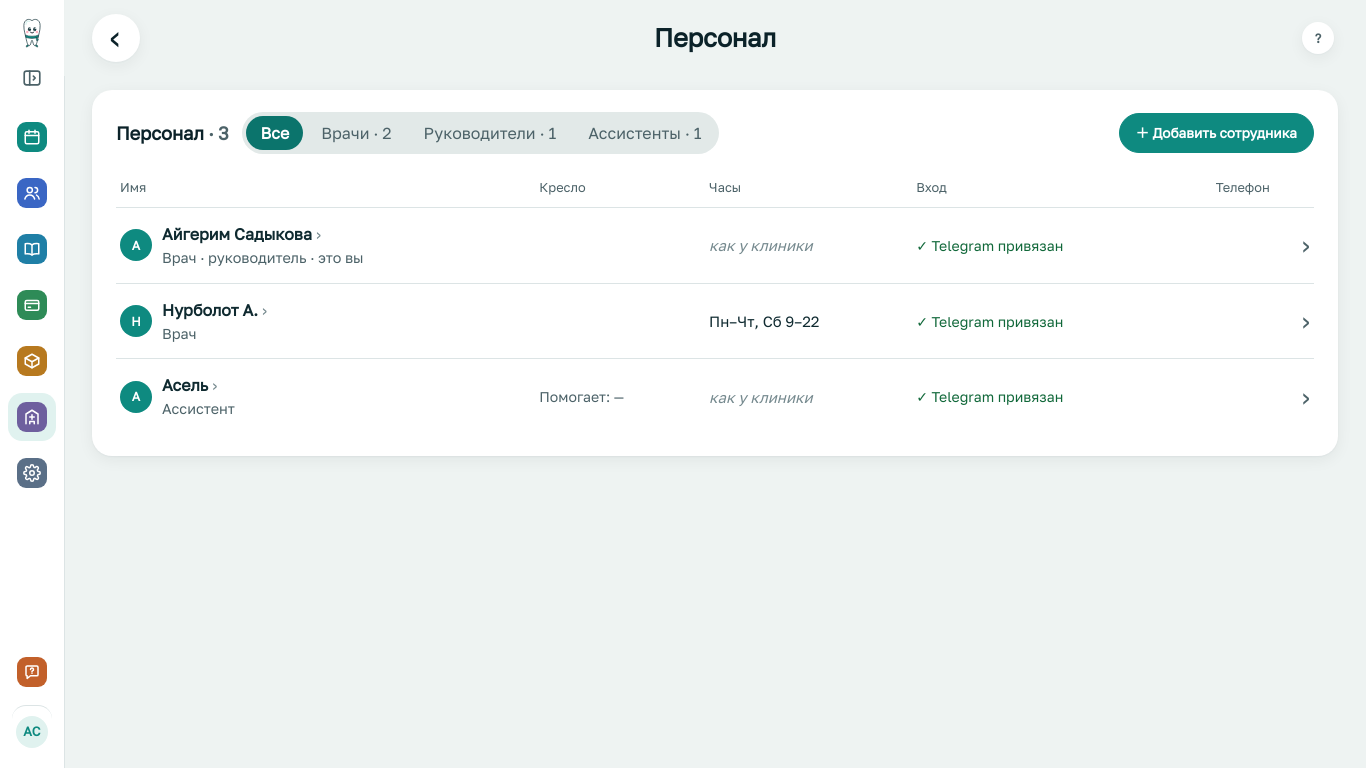
Test: «Услуги врача» → «Только выбранные»: галочка и название — одной строкой-подписью, группа — подзаголовком
Later steps or results of the test are not shown.
Click the button "Нурболот А.": [215, 310] box [162,298,267,322]
(page scrolled)
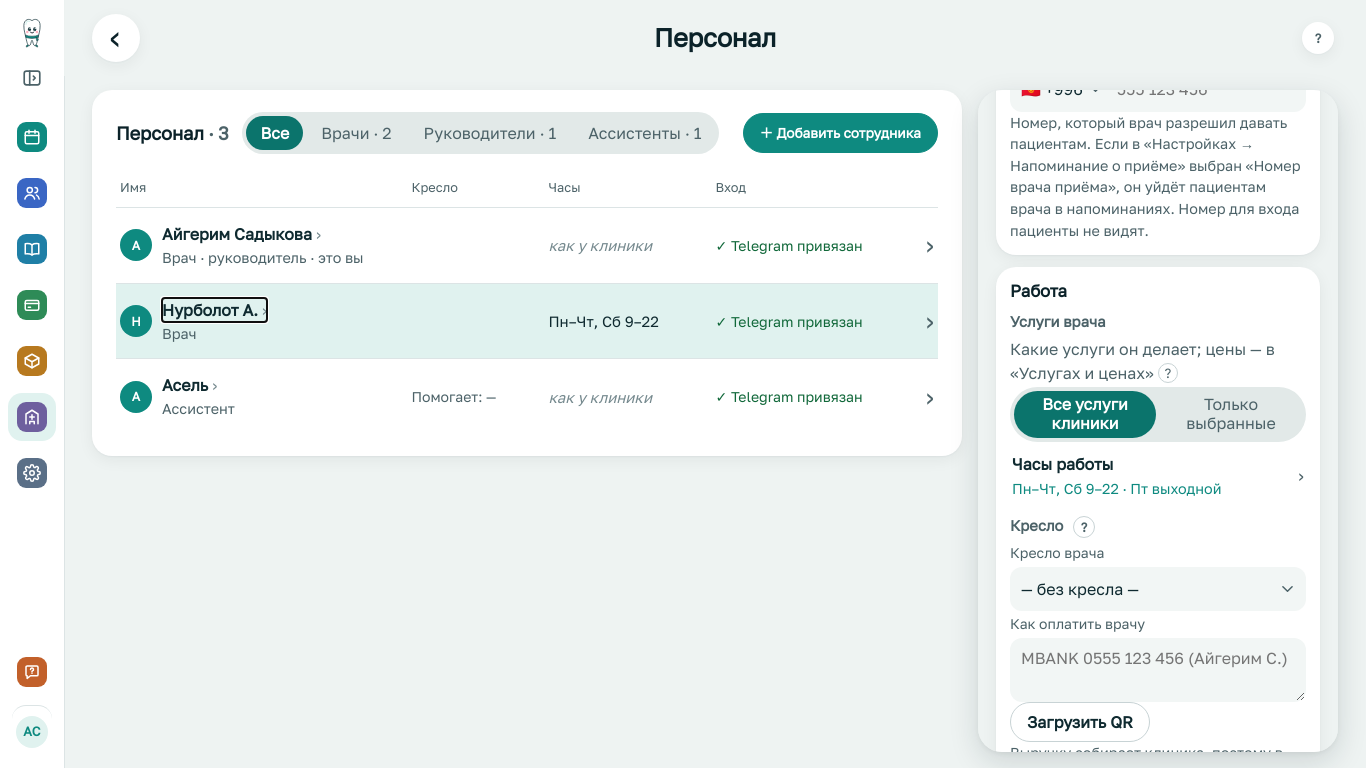
Expected: the element "Услуги врача" does not show "регистратура — в «Новой записи»", [1010,305,1306,442]
Expected: the element "Услуги врача" shows "Какие услуги он делает; цены — в «Услугах и ценах»", [1010,339,1275,383]
Click the button named "Подробнее про услуги врача": [1168, 373] box [1158,363,1178,383]
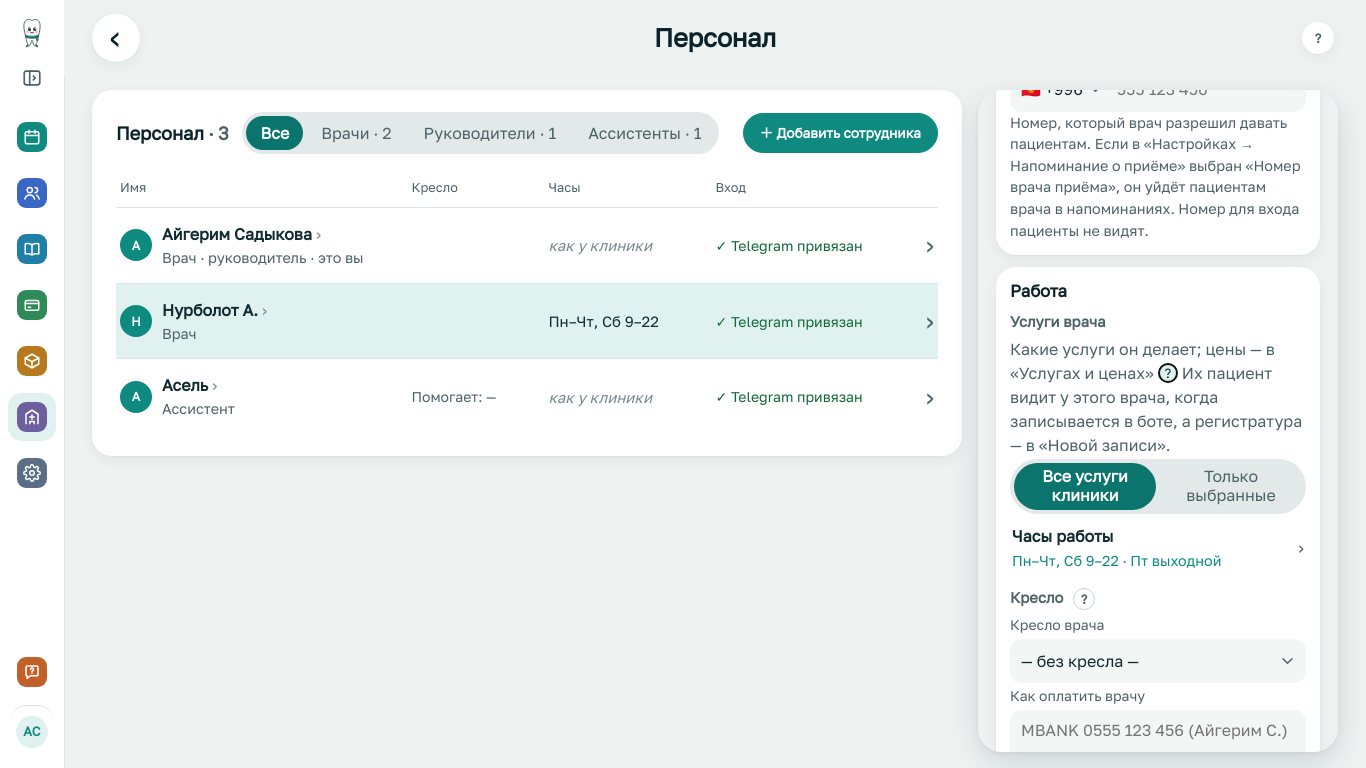
Expected: the element "Услуги врача" shows "регистратура — в «Новой записи»", [1010,363,1302,455]
Click the button "Только выбранные": [1231, 486] box [1160,463,1302,510]
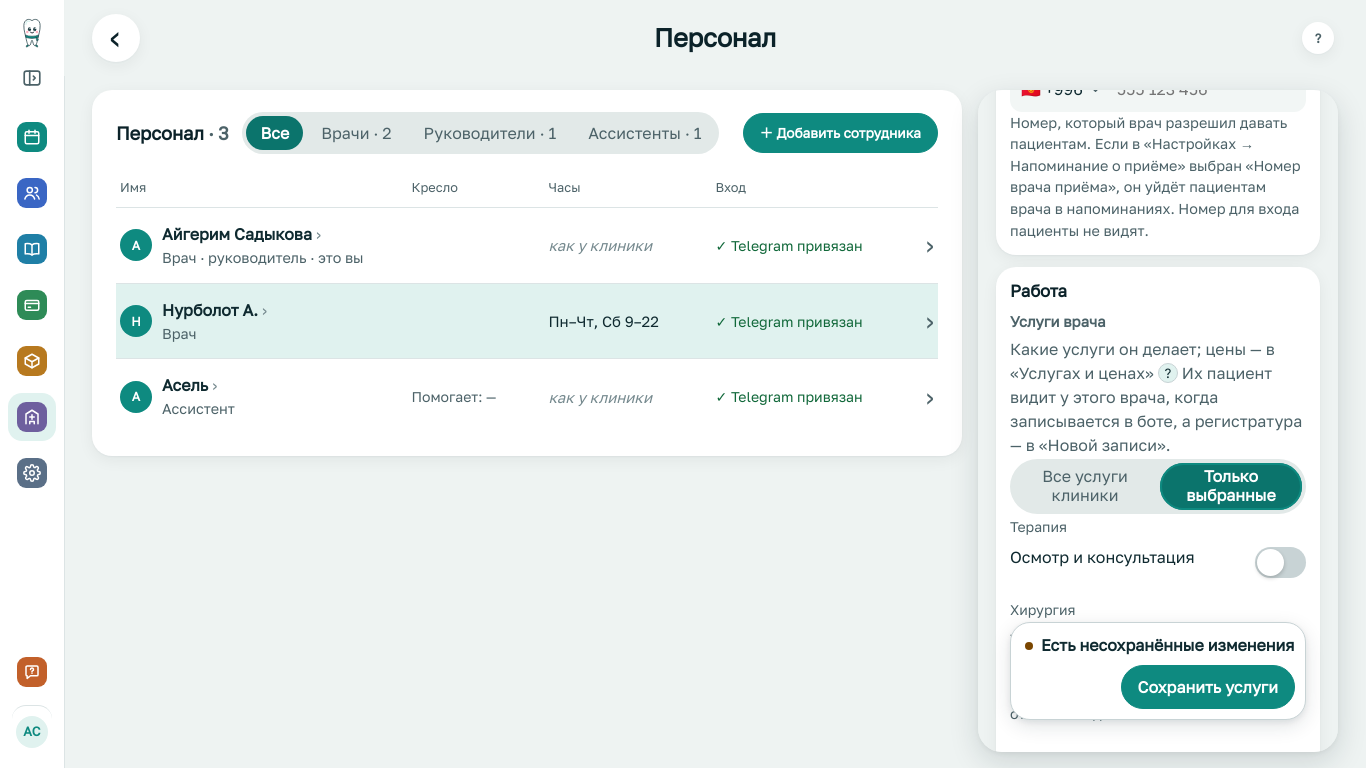
Expected: the label "Удаление зуба" is shown, [1010,630,1306,660]
